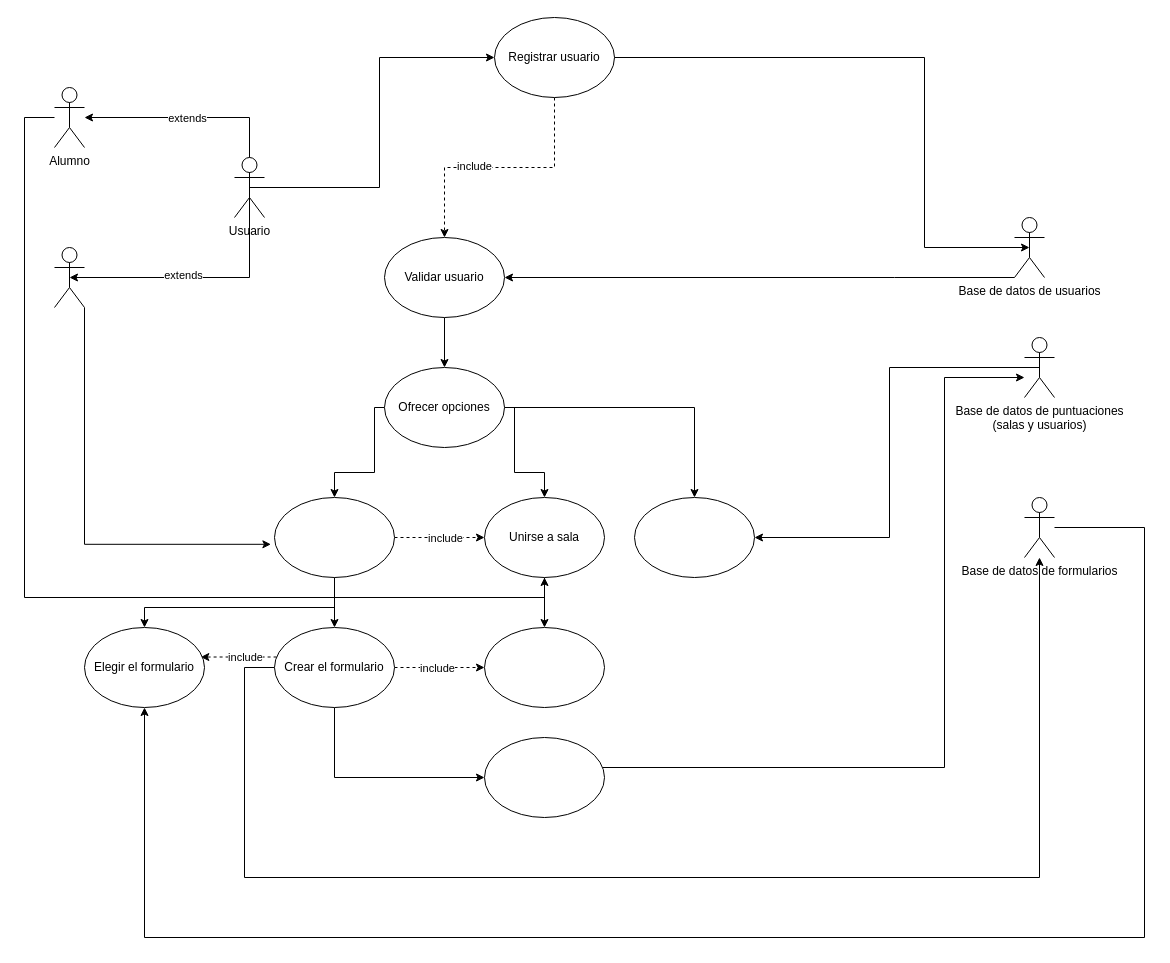
Image size: 1170x963. Some labels were removed from this diagram. The shapes that lost their labels are listed below. From the top down, each one's centre as x and y in pixels, then its label:
At point (69, 277): "Profesor".
At point (334, 537): "Crear sala".
At point (694, 537): "Ver datos".
At point (544, 667): "Responder el formulario".
At point (544, 777): "Guardar resultados".
